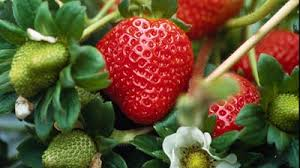strawberry: (93, 9, 196, 128)
